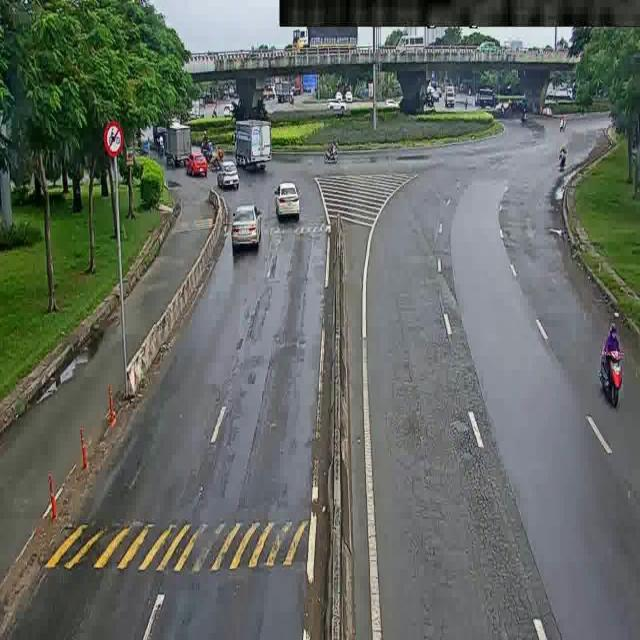car: (225, 197, 273, 264), (270, 181, 298, 222), (186, 155, 210, 181), (214, 159, 238, 184)
motorbike: (591, 312, 635, 405), (200, 126, 227, 166), (554, 143, 578, 183), (322, 140, 345, 165)
truck: (231, 113, 289, 168), (155, 118, 196, 181)
